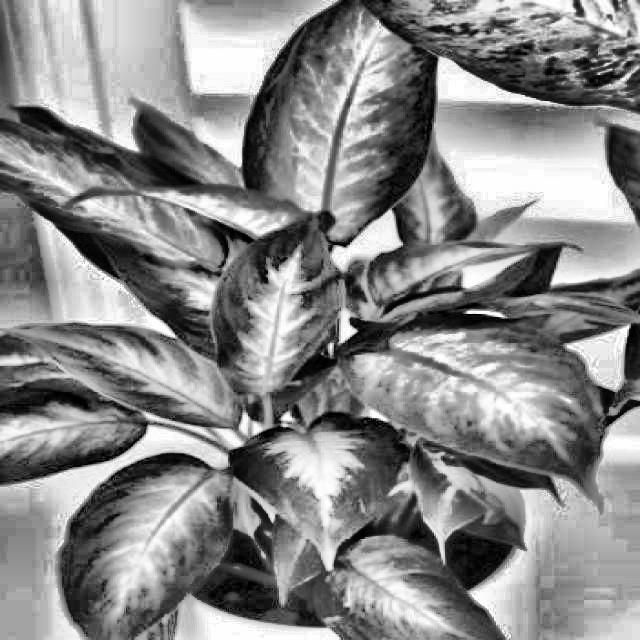plants: (11, 121, 574, 608)
